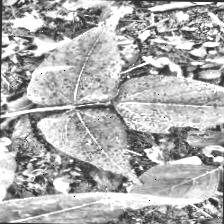ALS: (30, 106, 145, 179), (35, 24, 124, 106), (120, 74, 224, 135), (0, 140, 17, 205)
